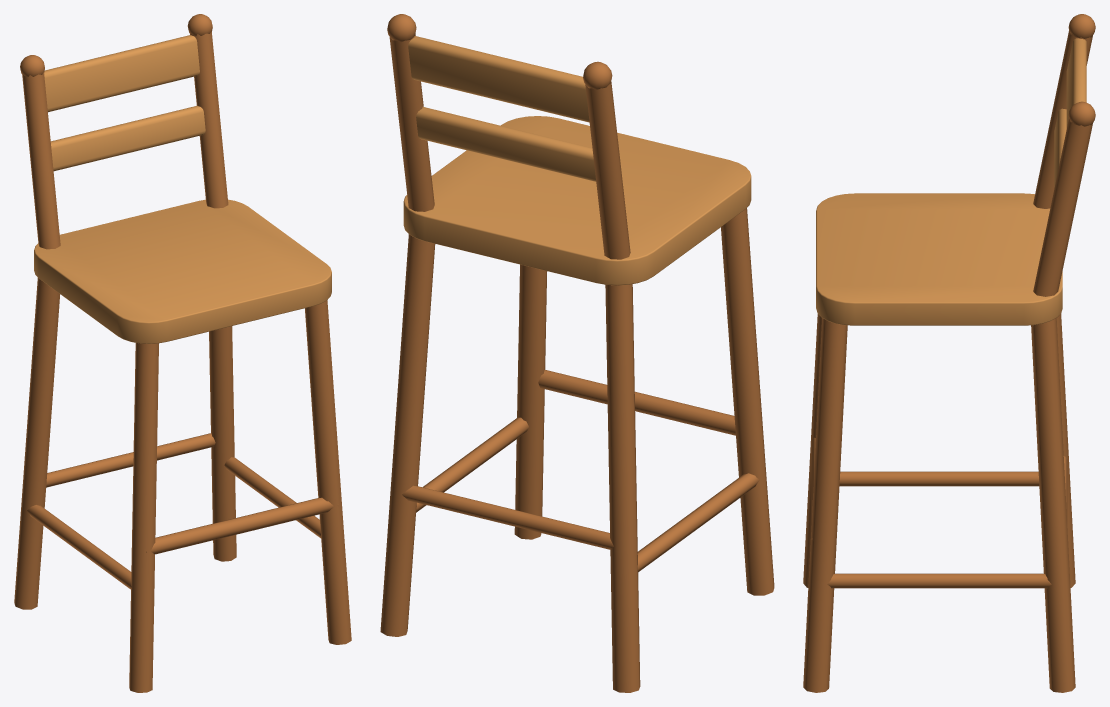
The model's file is banqueta_cozinha_encosto_madeira.glb.
3 views of the same model, side by side, from view 1: azimuth 30°, elevation 25°; view 2: azimuth 150°, elevation 25°; view 3: azimuth 270°, elevation 25° (orthographic). The views are drawn at different scales.
Visible parts, largest first — view 1: banqueta_cozinha_encosto_madeira; view 2: banqueta_cozinha_encosto_madeira; view 3: banqueta_cozinha_encosto_madeira.
Boxes of the visible parts, x1=… form: banqueta_cozinha_encosto_madeira: x1=14, y1=14, x2=351, y2=692; banqueta_cozinha_encosto_madeira: x1=380, y1=14, x2=774, y2=692; banqueta_cozinha_encosto_madeira: x1=803, y1=14, x2=1095, y2=692.
Bounding box in the file's own units: 0.42 × 0.9823 × 0.451.
1 material, 1 textured.
